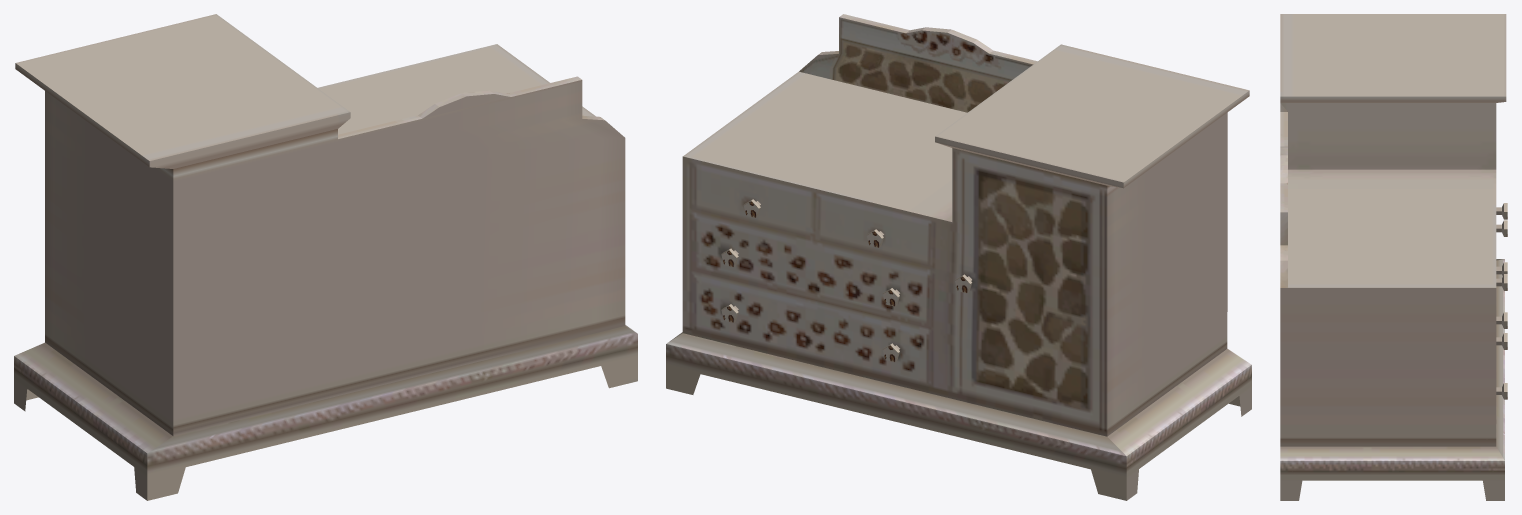
Rendered from furni_0200127.FBX.
3 views of the same model, side by side, from view 1: azimuth 30°, elevation 25°; view 2: azimuth 150°, elevation 25°; view 3: azimuth 270°, elevation 25° (orthographic). The views are drawn at different scales.
Visible parts, largest first — view 1: furni_0200127; view 2: furni_0200127; view 3: furni_0200127.
Part boxes in pixels (x1,y1,x2,y2): furni_0200127: (14,14,637,500); furni_0200127: (666,14,1251,500); furni_0200127: (1280,14,1507,500).
Bounding box in the file's own units: 159 × 105 × 75.73.
Materials: 1 (1 with a texture image).
